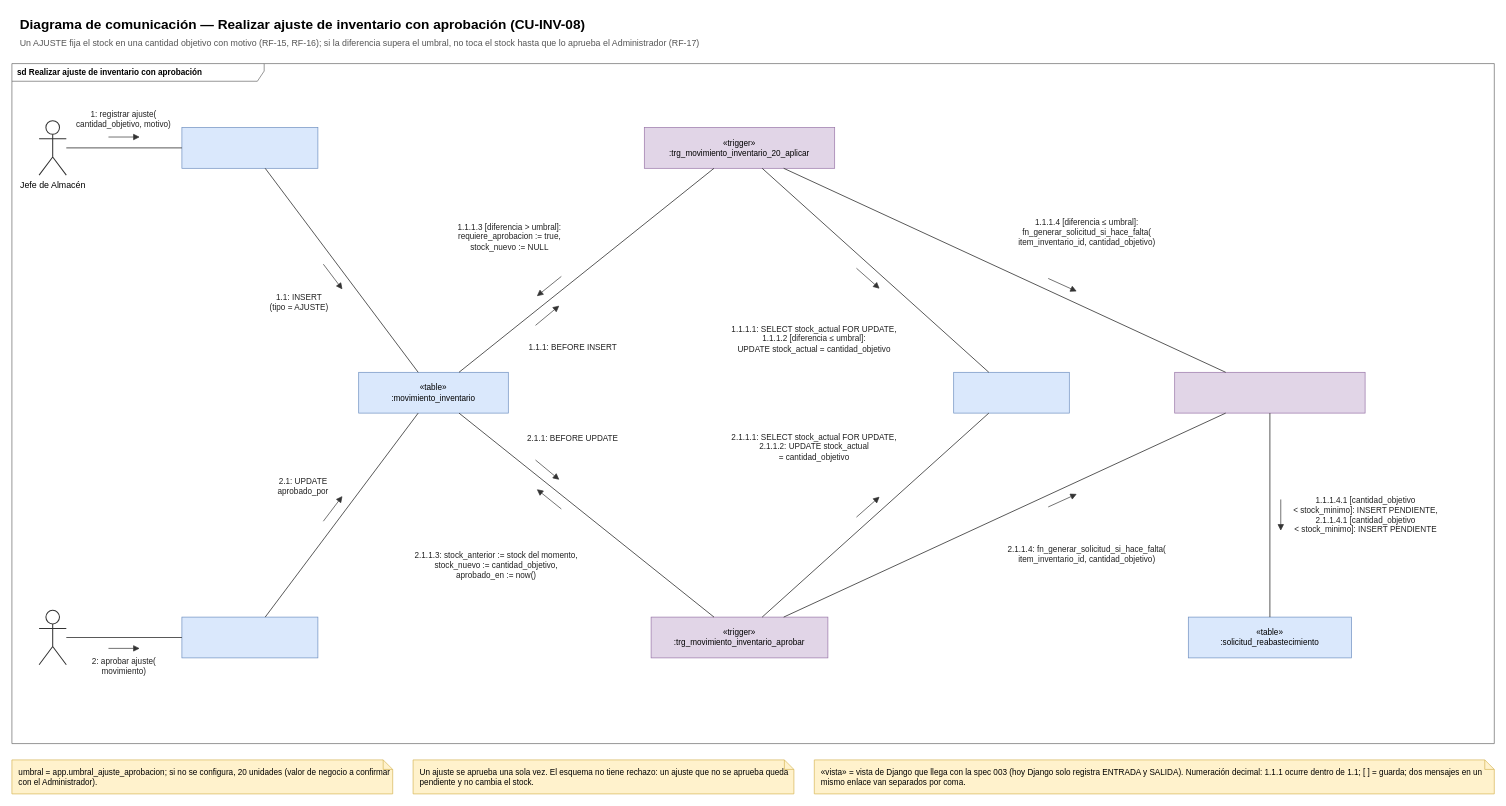
Image size: 1506x806. Some labels were removed from this diagram. The centre of each missing label's shape, as x and y in pixels:
"Administrador" goes at (52,637).
"«function» :fn_generar_solicitud_si_hace_falta" goes at (1269,392).
"«table» :item_inventario" goes at (1011,392).
"«vista» :VistaAjuste" goes at (249,147).
"«vista» :VistaAprobacion" goes at (249,637).
